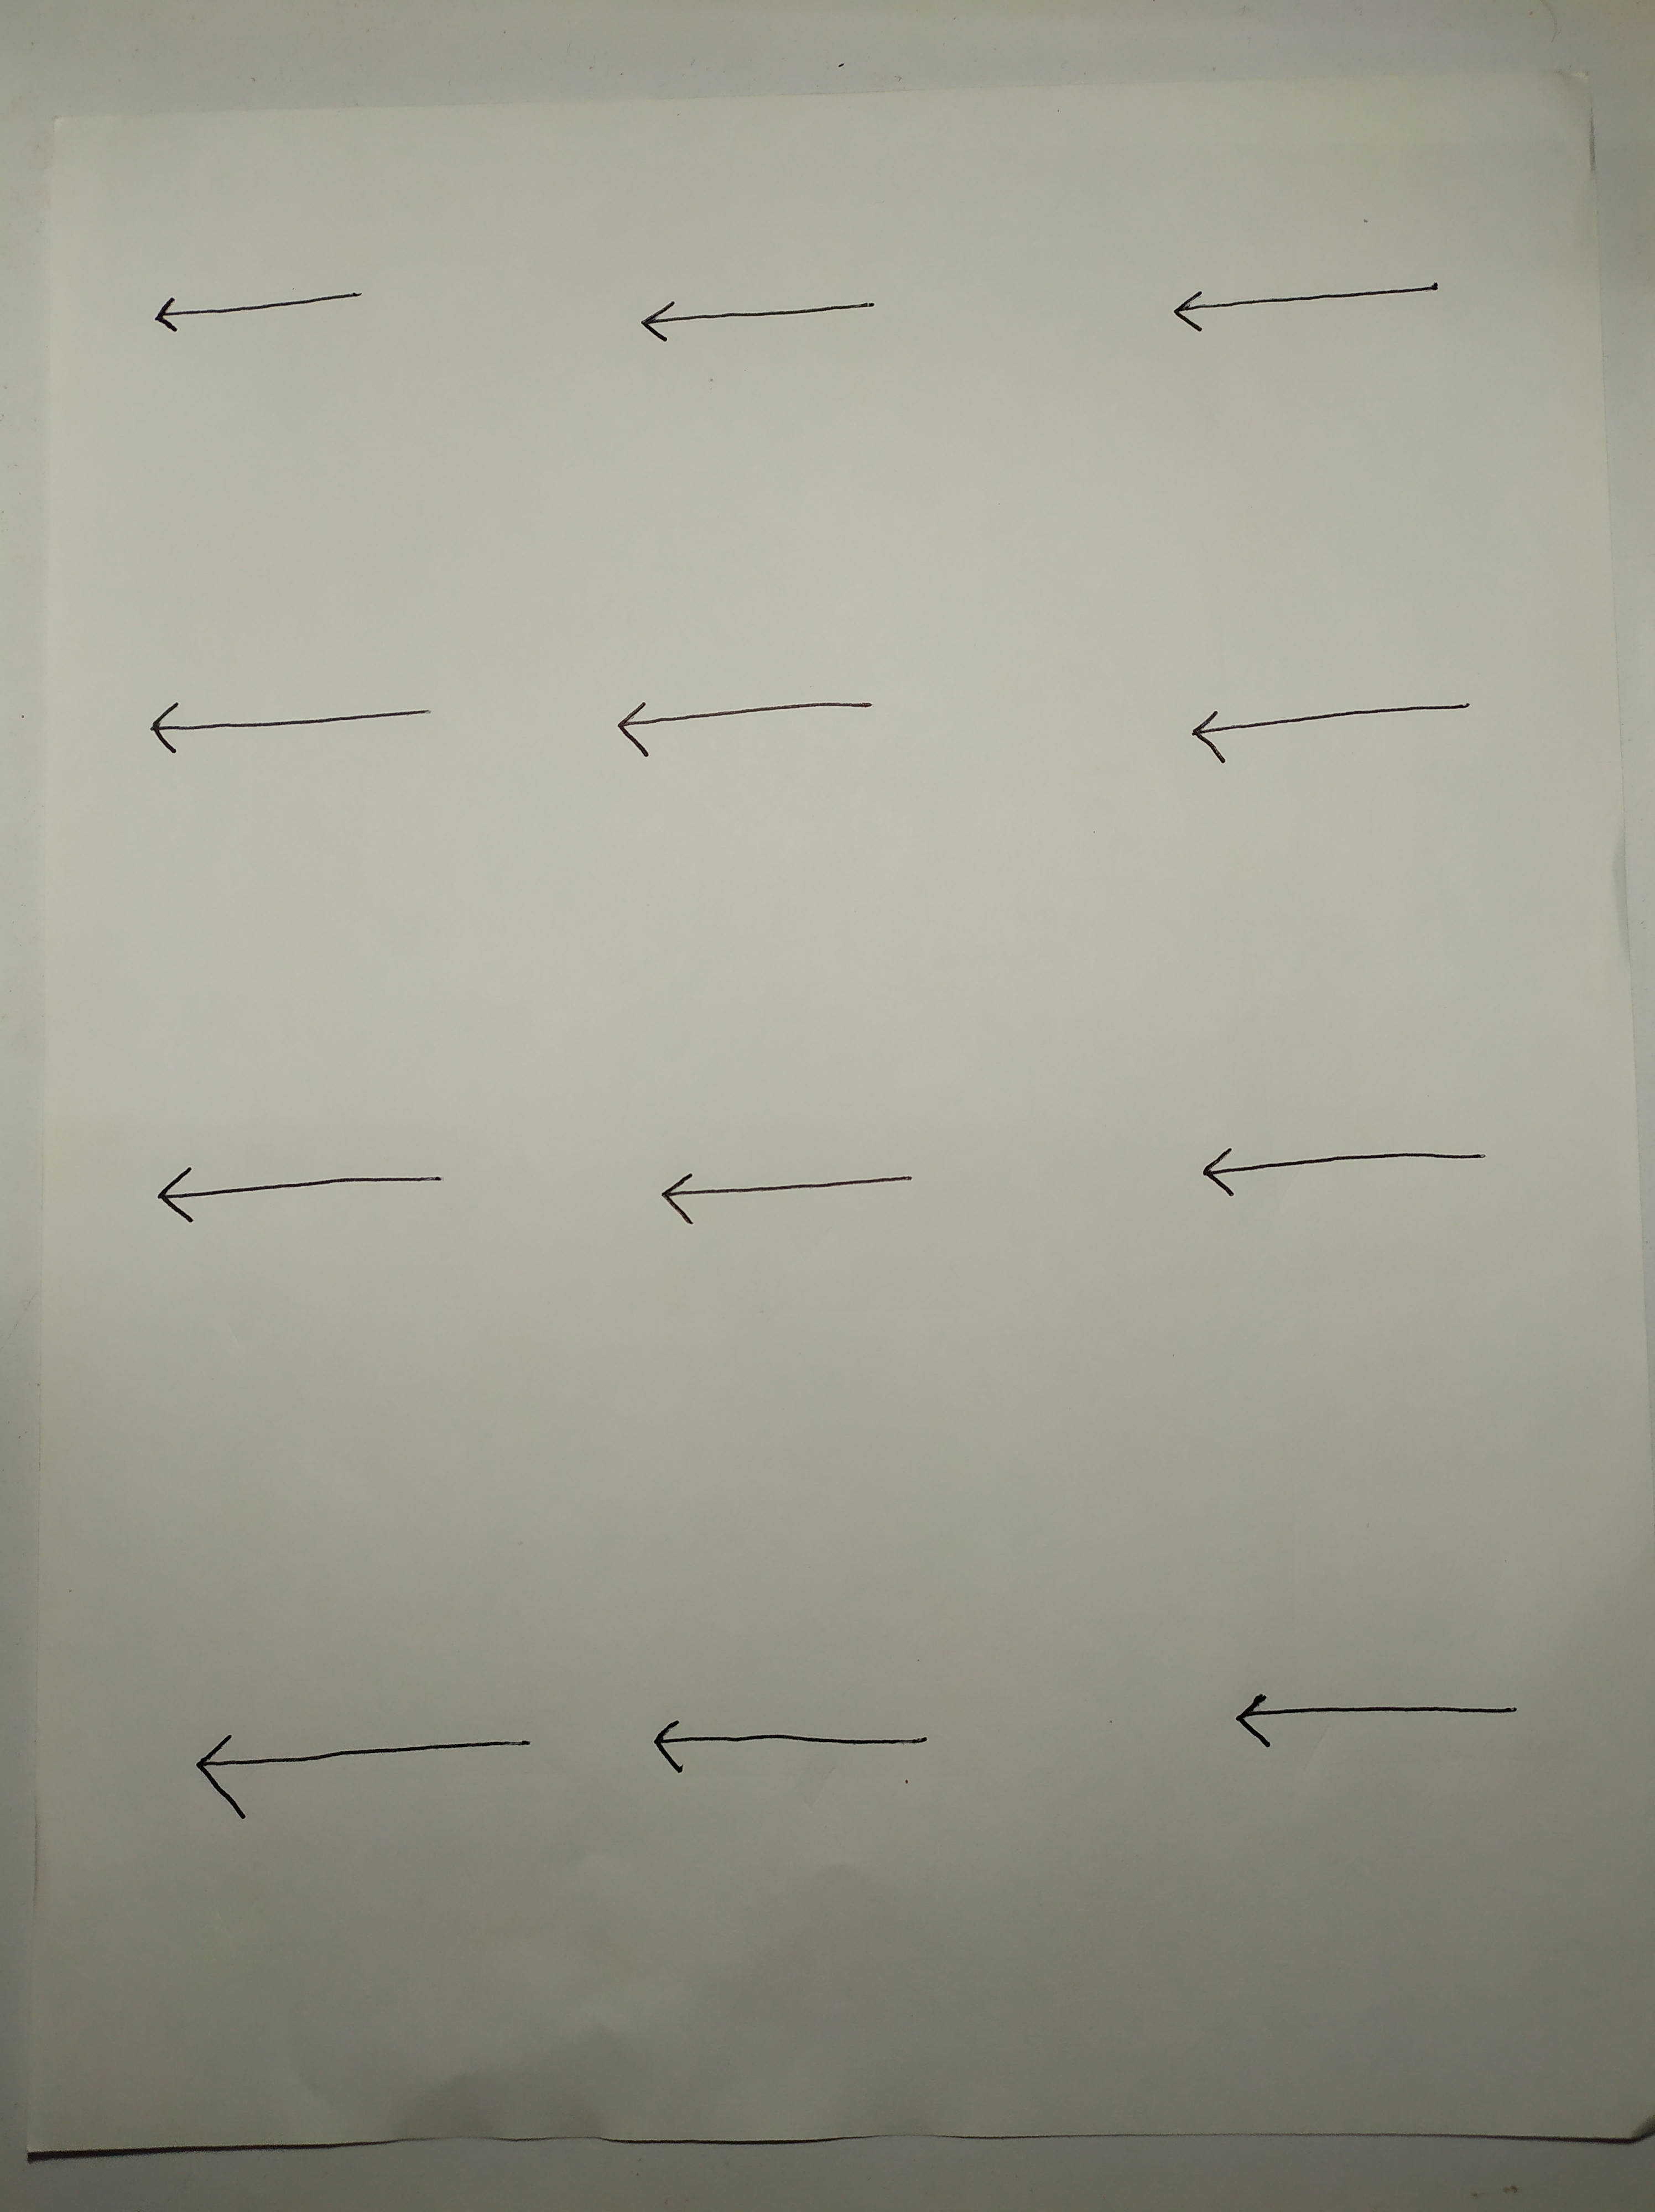arrow_line_left: (156, 1705, 575, 1830), (115, 1131, 469, 1251), (1161, 1126, 1544, 1232), (1198, 1663, 1566, 1769), (626, 1691, 984, 1791), (1154, 679, 1519, 777), (111, 671, 476, 766), (579, 672, 914, 775), (615, 1140, 954, 1241), (1146, 261, 1488, 339), (608, 281, 925, 354), (125, 276, 405, 348)
